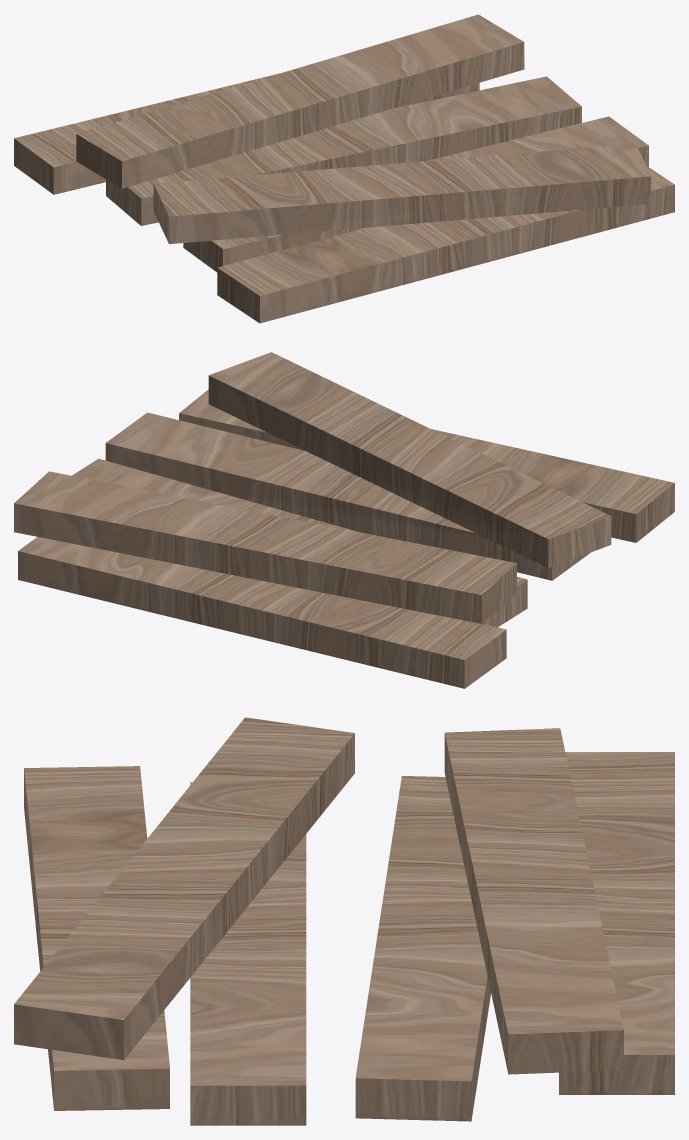
Rendered from WoodenPlanks.obj.
3 renders of one model, top to bottom at view 1: azimuth 30°, elevation 25°; view 2: azimuth 150°, elevation 25°; view 3: azimuth 270°, elevation 25°, orthographic. The views are drawn at different scales.
Bounding box in the file's own units: 0.9516 × 0.1066 × 0.7967.
1 material, 1 textured.
